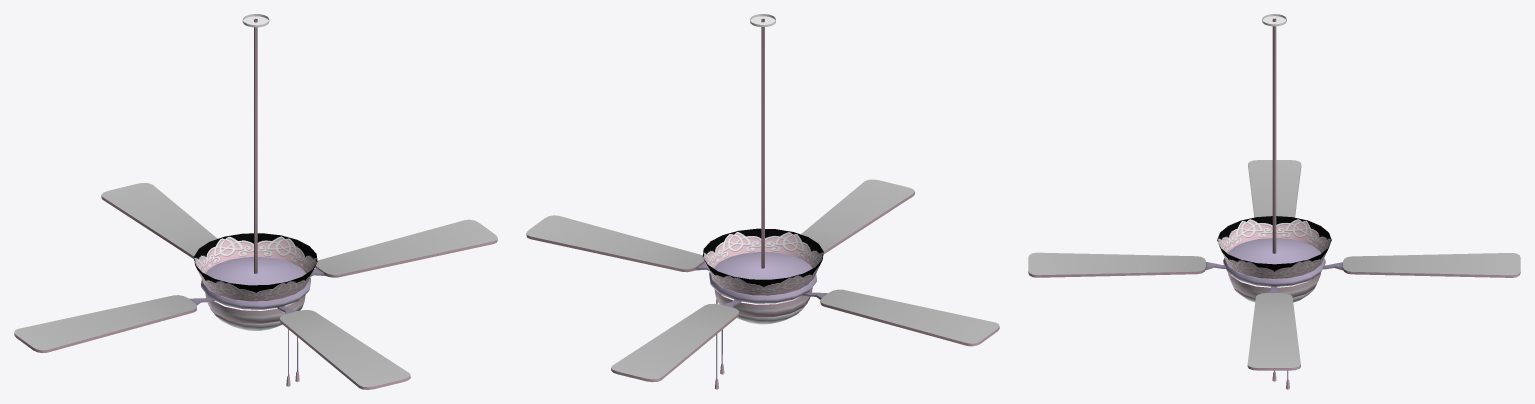
The model's file is KidsPrin_CeFan_Wd_LtPurp_001.obj.
3 views of the same model, side by side, from view 1: azimuth 30°, elevation 25°; view 2: azimuth 150°, elevation 25°; view 3: azimuth 270°, elevation 25° (orthographic). The views are drawn at different scales.
Visible parts, largest first — view 1: KidsPrin_CeFan_Wd_LtPurp_001_LOD0; view 2: KidsPrin_CeFan_Wd_LtPurp_001_LOD0; view 3: KidsPrin_CeFan_Wd_LtPurp_001_LOD0.
Boxes of the visible parts, left/top/right/bottom form: KidsPrin_CeFan_Wd_LtPurp_001_LOD0: left=14, top=14, right=497, bottom=389; KidsPrin_CeFan_Wd_LtPurp_001_LOD0: left=526, top=14, right=999, bottom=389; KidsPrin_CeFan_Wd_LtPurp_001_LOD0: left=1028, top=14, right=1520, bottom=389.
Bounding box in the file's own units: 1.31 × 1.04 × 1.31.
